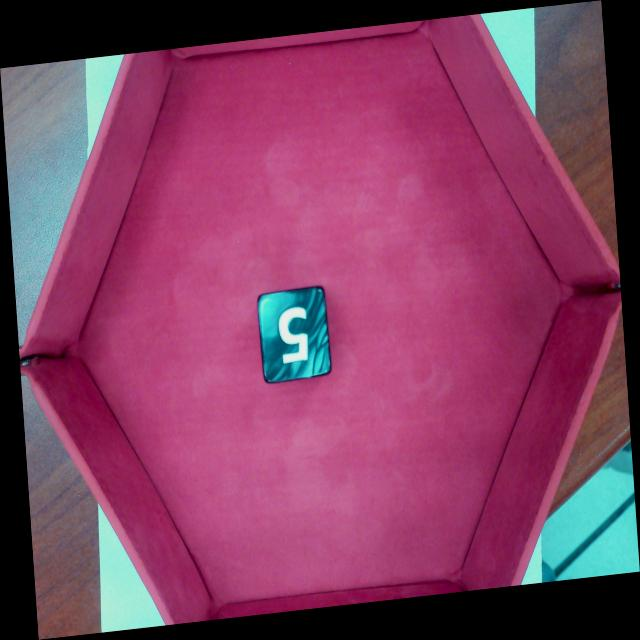dice: (262, 289, 331, 379)
